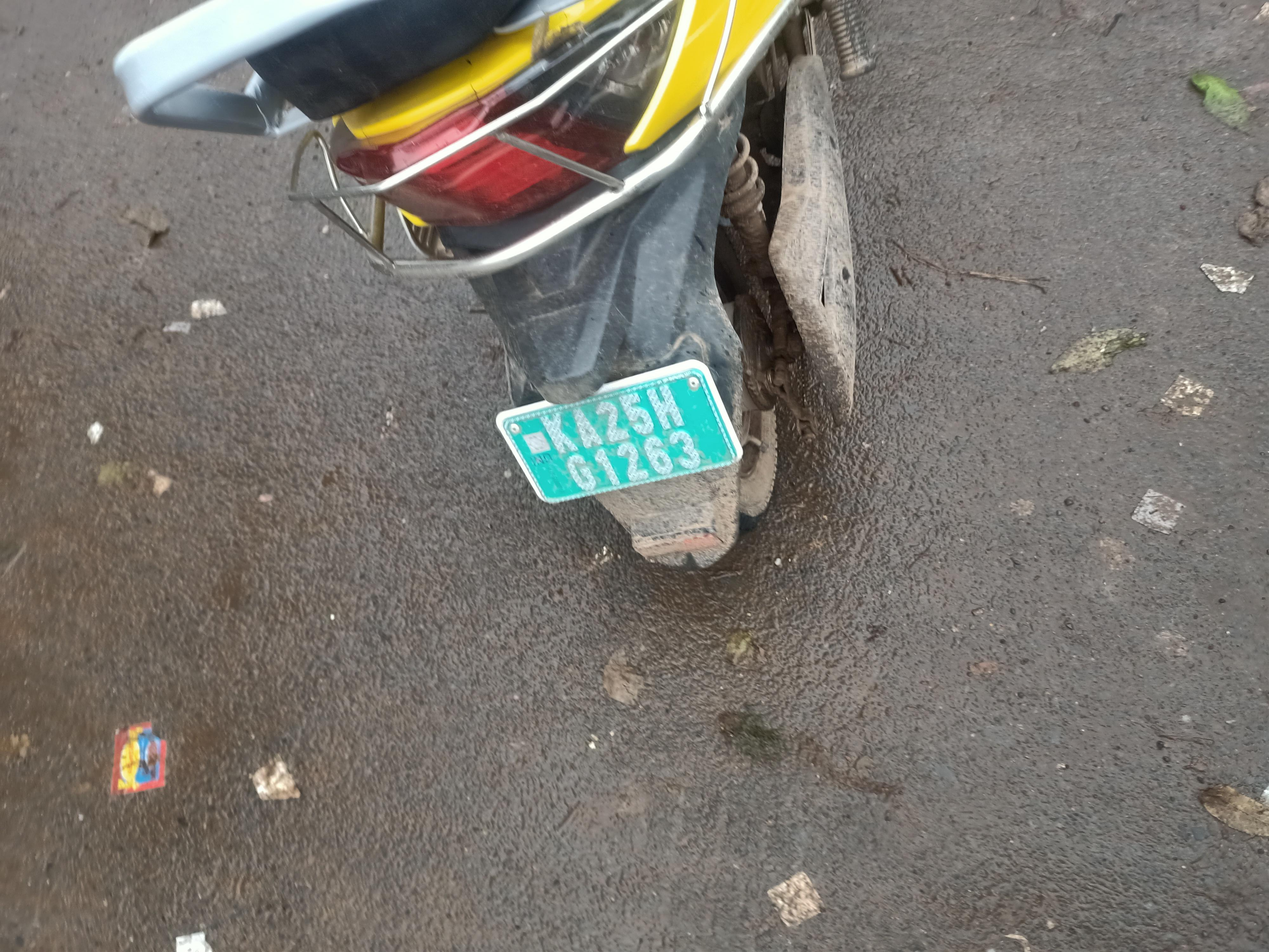green license plate: (493, 357, 742, 498)
